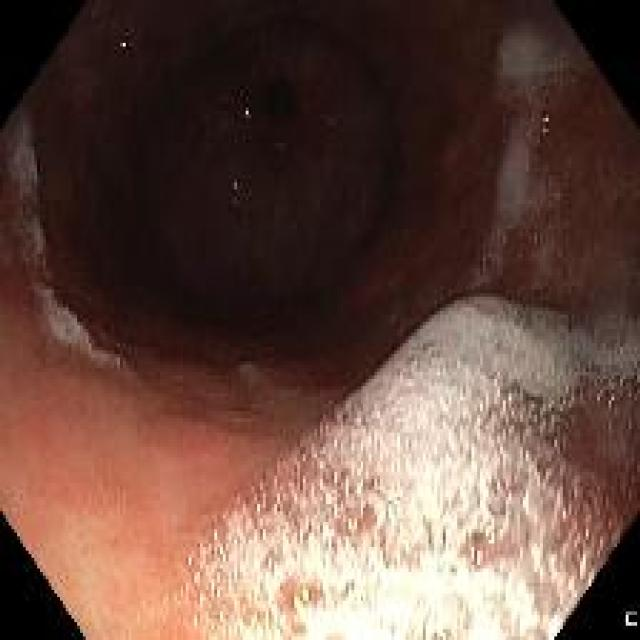bubbles: (207, 303, 634, 633), (533, 454, 620, 578), (501, 382, 581, 455), (578, 366, 631, 456), (467, 500, 529, 561), (276, 578, 334, 617), (333, 501, 379, 544), (325, 466, 357, 498), (350, 470, 378, 502)
contrast: (16, 7, 494, 394), (256, 70, 297, 126)
saturation: (300, 544, 557, 639)
specularity: (536, 107, 554, 139)
